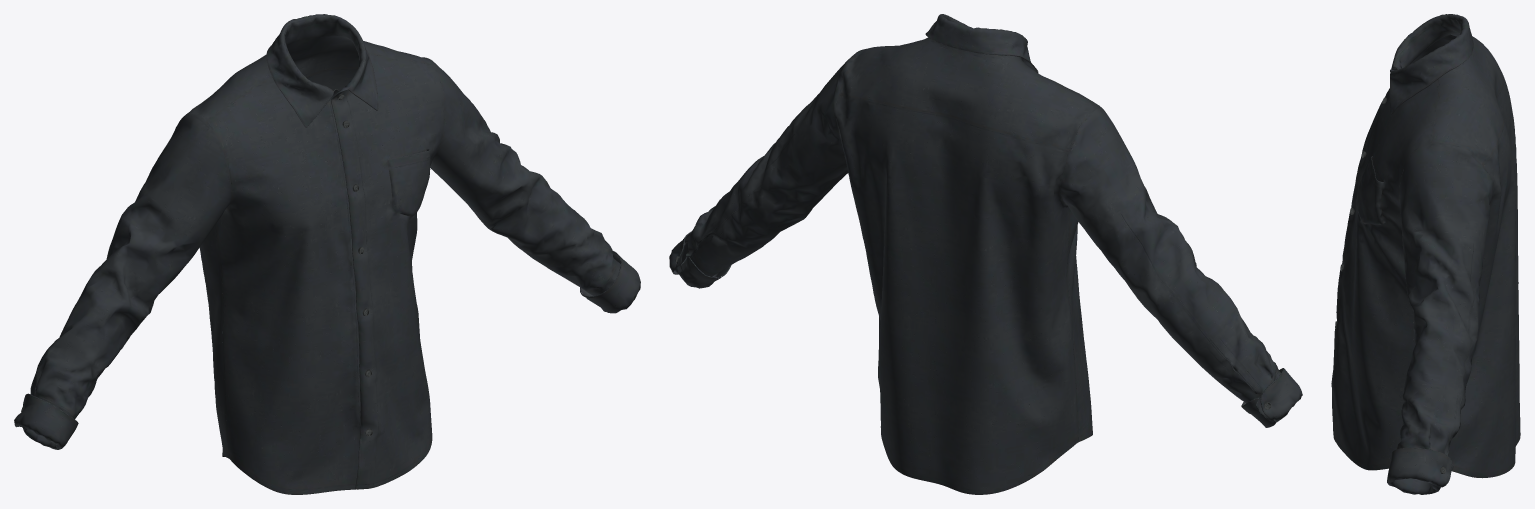
The model's file is shirt.glb.
3 views of the same model, side by side, from view 1: azimuth 30°, elevation 25°; view 2: azimuth 150°, elevation 25°; view 3: azimuth 270°, elevation 25° (orthographic). The views are drawn at different scales.
Parts seen in each view (by area): view 1: Object_9, Object_7, Object_6, Object_2; view 2: Object_2, Object_7, Object_6, Object_9; view 3: Object_9, Object_6, Object_2, Object_7.
Part boxes in pixels (<box>): Object_9: <box>205,14,444,494</box>; Object_7: <box>14,114,231,449</box>; Object_6: <box>430,63,640,313</box>; Object_2: <box>186,35,436,458</box>; Object_2: <box>833,37,1096,494</box>; Object_7: <box>1060,106,1302,427</box>; Object_6: <box>669,56,851,288</box>; Object_9: <box>895,14,1099,441</box>; Object_9: <box>1331,14,1473,470</box>; Object_6: <box>1387,143,1492,494</box>; Object_2: <box>1432,32,1520,477</box>; Object_7: <box>1411,34,1456,63</box>.
Bounding box in the file's own units: 115 × 77.73 × 31.21.
Materials: 9 (7 with a texture image).
